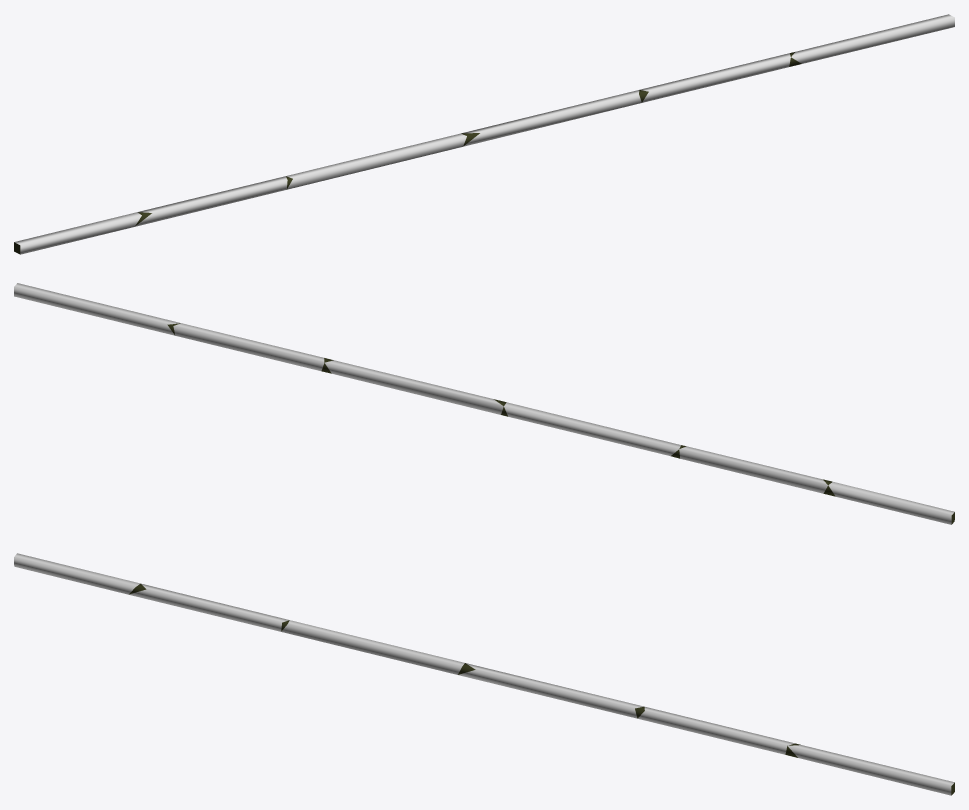
Rendered from woodenPoleXLong_bamboo.glb.
3 views of the same model, one above another, from view 1: azimuth 30°, elevation 25°; view 2: azimuth 150°, elevation 25°; view 3: azimuth 330°, elevation 25° (orthographic).
Parts seen in each view (by area): view 1: Cube.001; view 2: Cube.001; view 3: Cube.001.
Part boxes in pixels (left/top/right/bottom): Cube.001: left=14, top=14, right=954, bottom=254; Cube.001: left=14, top=283, right=954, bottom=524; Cube.001: left=14, top=553, right=954, bottom=795.
Bounding box in the file's own units: 4.79 × 0.0484 × 0.0449.
